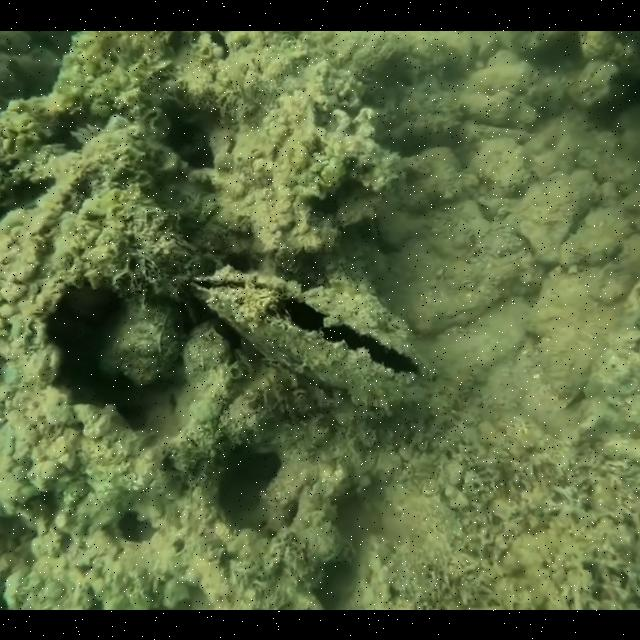Oyster-Open: (192, 262, 428, 410)
